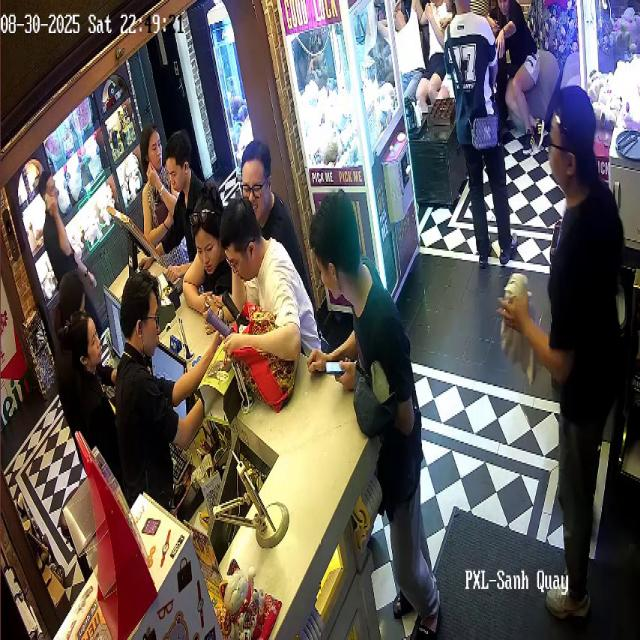khach: (314, 180, 438, 618), (528, 92, 610, 609), (442, 13, 519, 262), (221, 203, 307, 345), (491, 0, 537, 133), (195, 197, 235, 318), (238, 145, 280, 243), (136, 125, 166, 224), (418, 0, 442, 118)
nhan vien: (118, 257, 182, 494), (39, 163, 78, 304), (66, 318, 108, 422), (164, 128, 200, 241), (51, 249, 71, 335)
